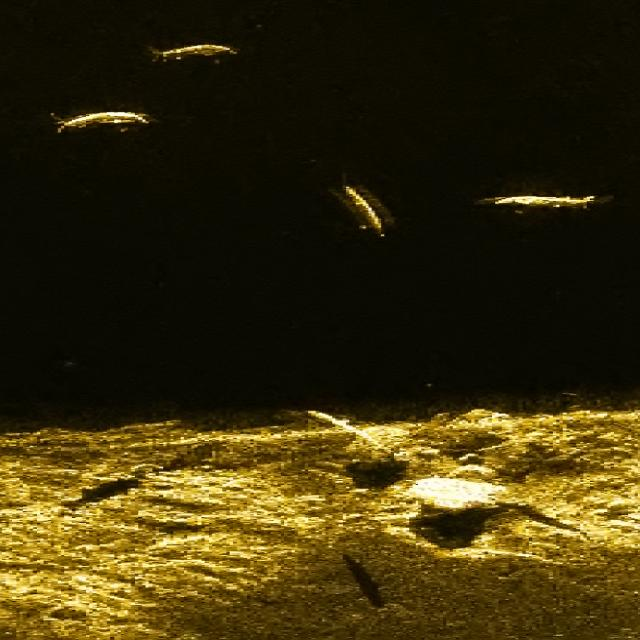fish: (300, 401, 410, 461), (406, 470, 512, 510), (330, 174, 394, 238), (479, 185, 602, 218), (48, 102, 157, 134), (146, 37, 239, 69)
